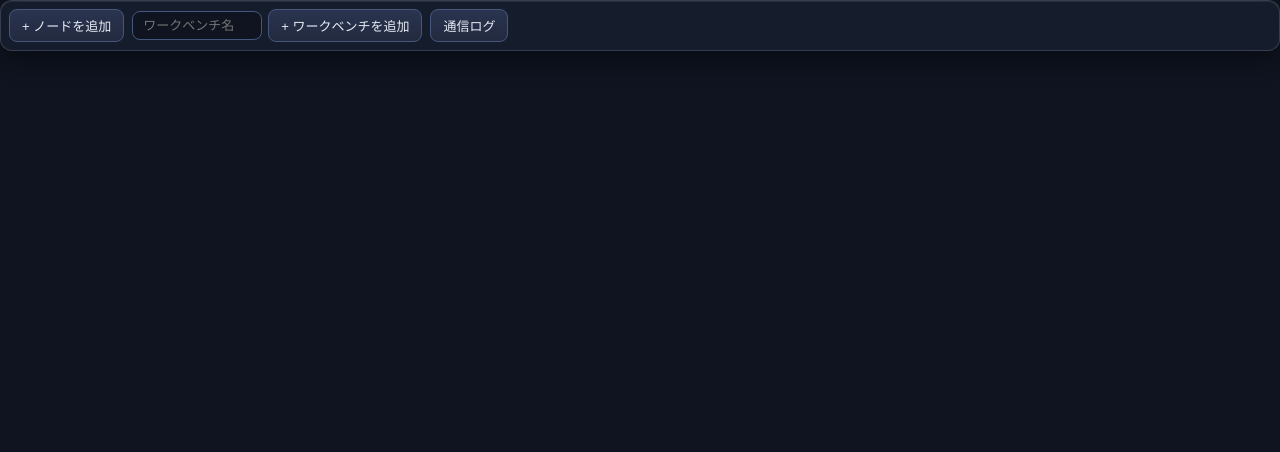
Test: add-node pair hint (Issue #251: why EL/CL is a pair) › opens the glossary definition popover when hovering the nested EL/CL separation term without closing the outer hint
Hover over the element showing "+ ノードを追加" at (67, 26), box [9, 9, 124, 42]
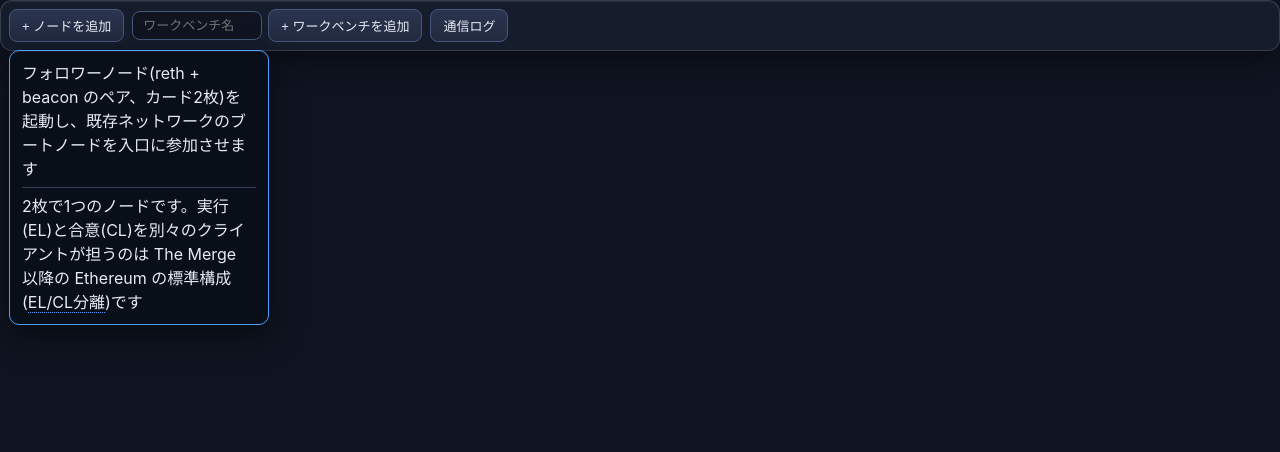
Expected: the tooltip is shown, [9, 50, 269, 325]
Hover over the button with test id "glossary-term-el-cl-separation" at (66, 302), box [28, 292, 105, 312]
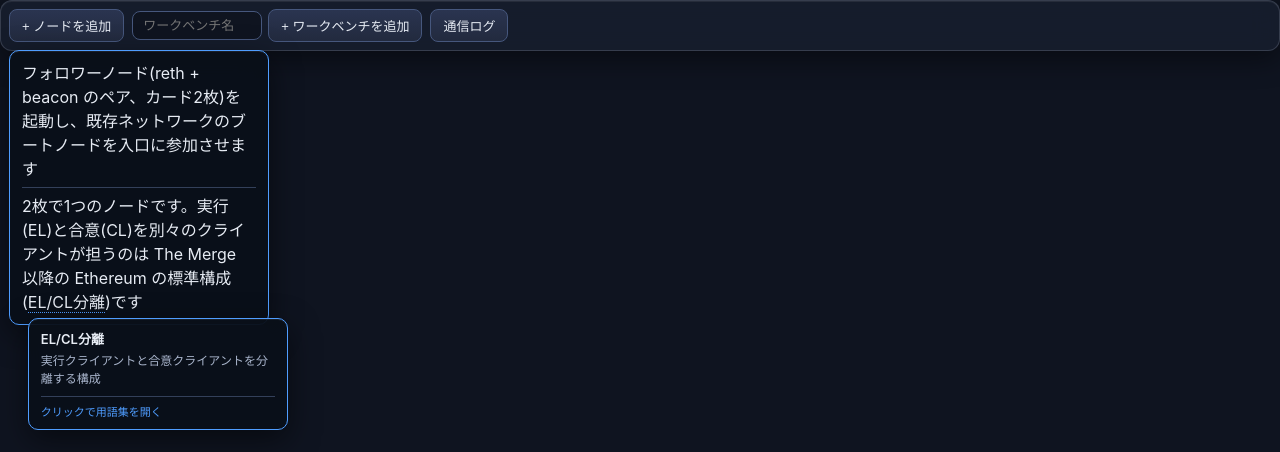
Expected: the tooltip with test id "glossary-popover-el-cl-separation" shows "実行クライアントと合意クライアントを分離する構成", [41, 353, 268, 386]
